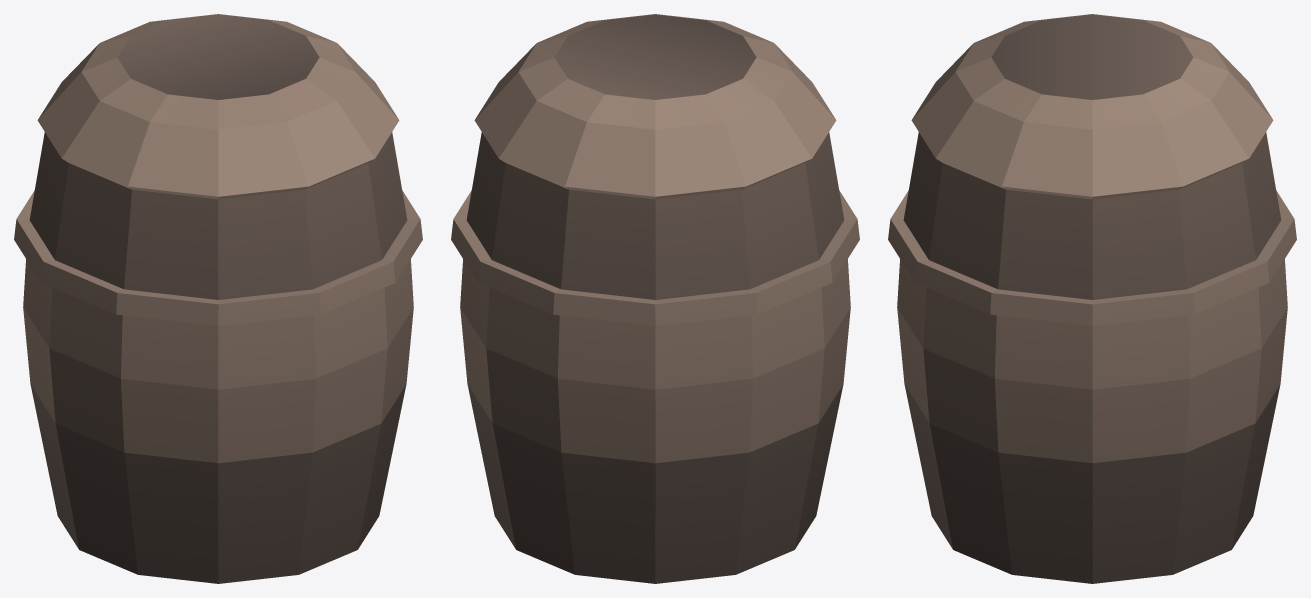
Rendered from B01_Pot.fbx.
3 views of the same model, side by side, from view 1: azimuth 30°, elevation 25°; view 2: azimuth 150°, elevation 25°; view 3: azimuth 270°, elevation 25° (orthographic).
Parts seen in each view (by area): view 1: B01_Pot; view 2: B01_Pot; view 3: B01_Pot.
Part boxes in pixels (bbox=[...]): B01_Pot: bbox=[14, 14, 422, 583]; B01_Pot: bbox=[451, 14, 859, 583]; B01_Pot: bbox=[888, 14, 1296, 583].
Size of the model in its own units: 88.66 by 110 by 88.66.
